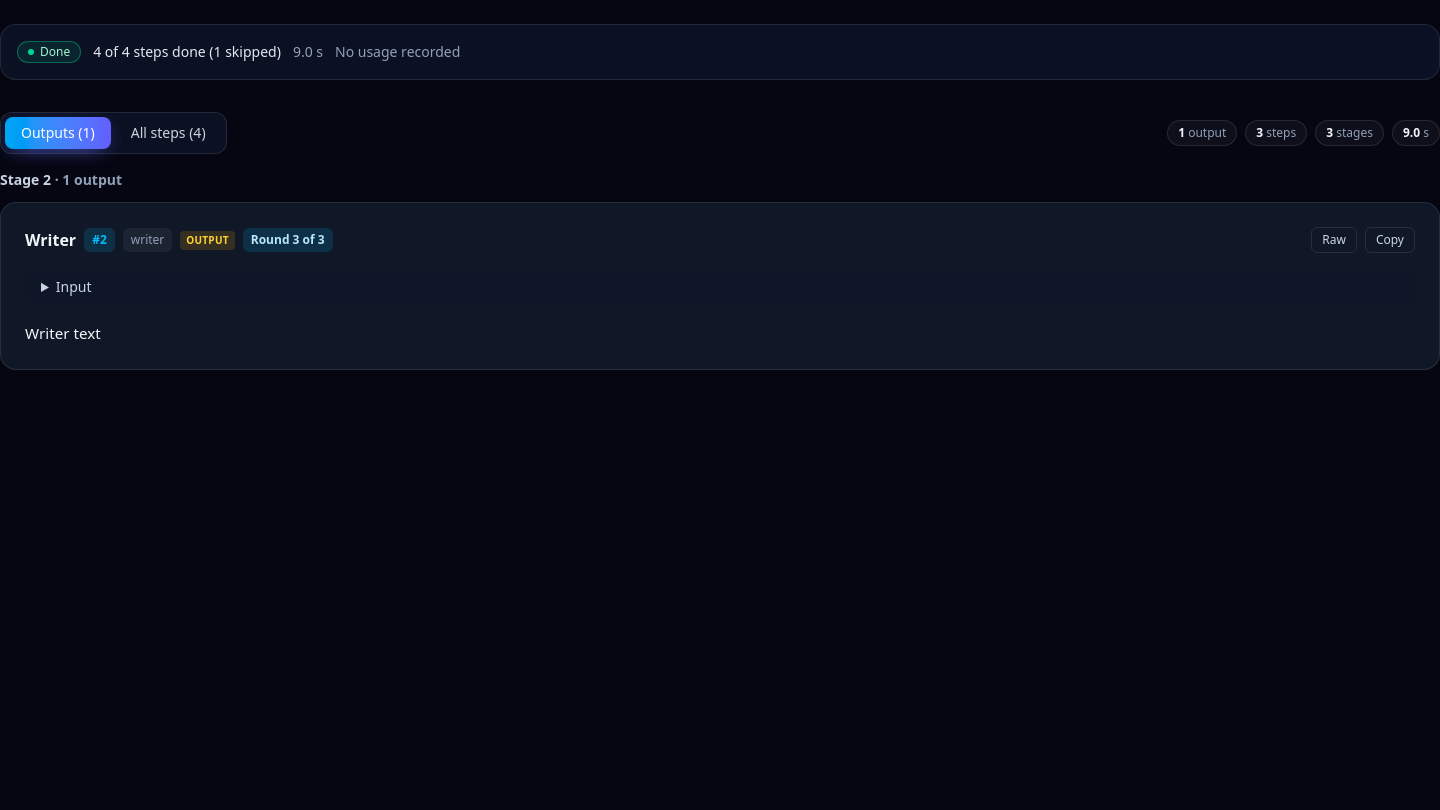
LiveRun: review rounds › tells what the reviewer’s last answer led to: approved after being sent back
Step 1. Click the tab "All steps (4)" → (168, 133), box [115,117,222,149]
(page scrolled)
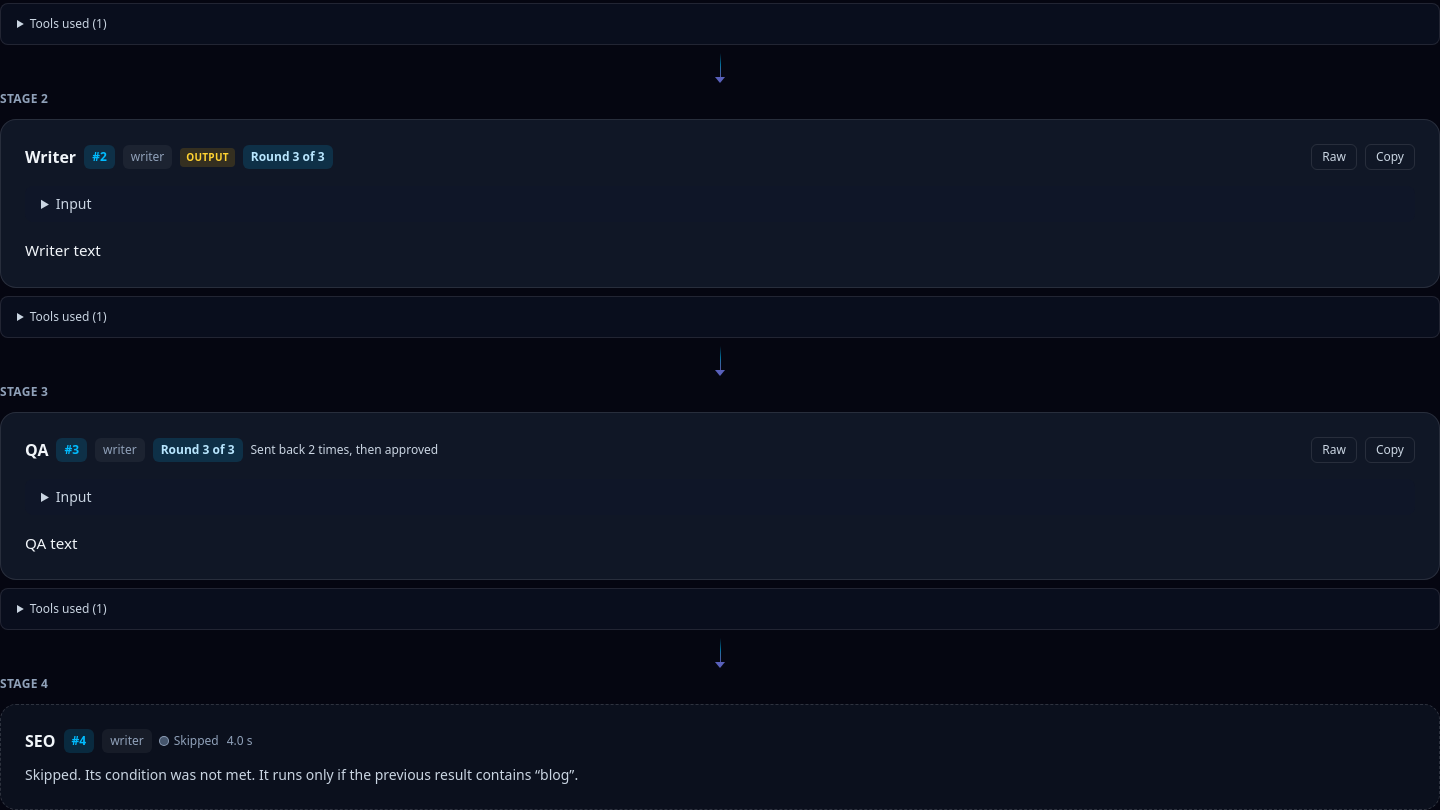
Expected: the text "Sent back 2 times, then approved" is shown, [250,442,438,458]
